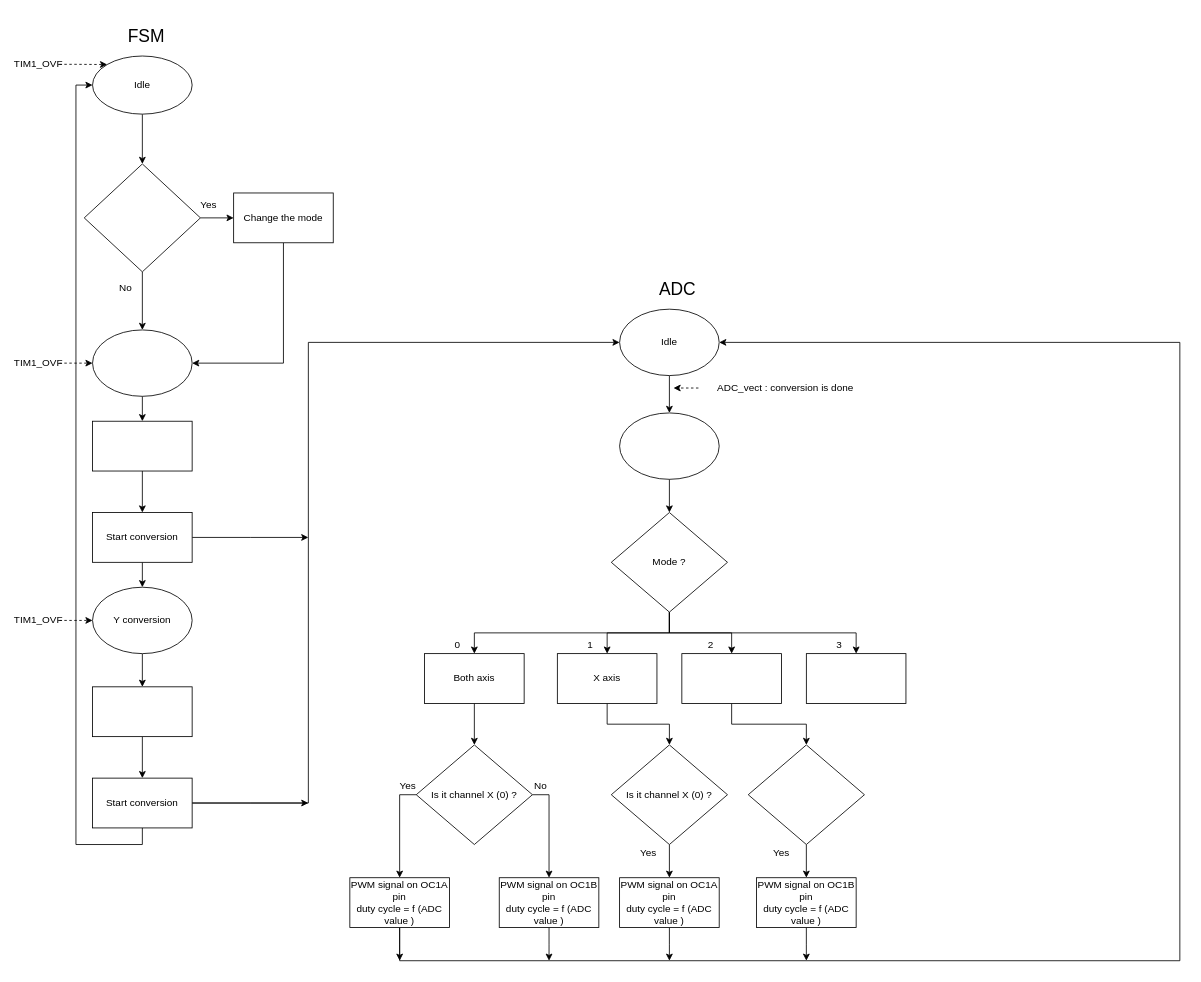
The diagram is 1201 pixels wide and 982 high, and some of its shapes have lost their labels. The centre of each missing label's shape, as x and y in pixels:
"Conversion" belongs at (x=669, y=445).
"Is it channel Y (1) ?" belongs at (x=805, y=794).
"No input" belongs at (x=856, y=678).
"Push button pressed ?" belongs at (x=141, y=217).
"Set ADC channel 0" belongs at (x=142, y=445).
"Set ADC channel 1" belongs at (x=142, y=711).
"X conversion" belongs at (x=142, y=362).
"Y axis" belongs at (x=731, y=678).
